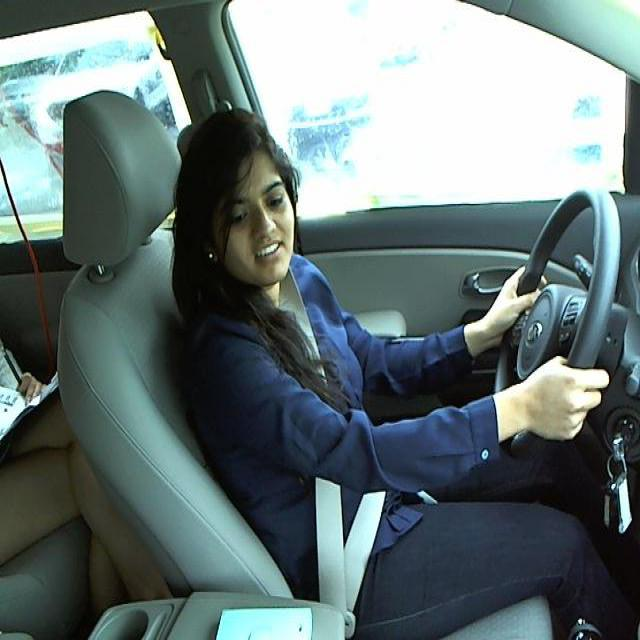seatbelt: (294, 433, 391, 603), (274, 269, 340, 380)
